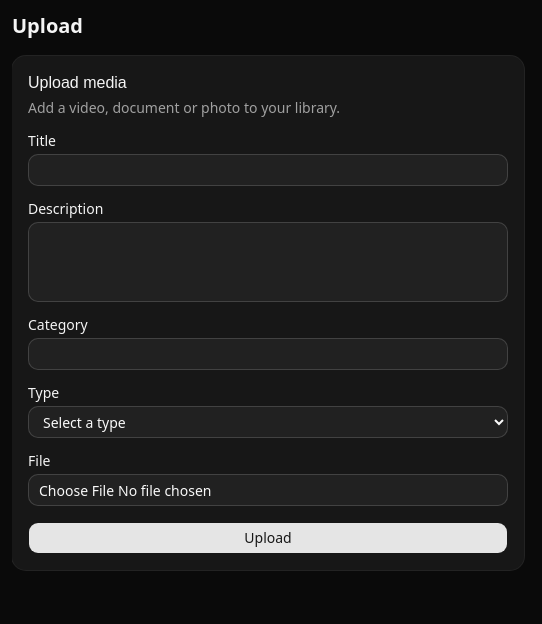
Test: UploadPage › shows a validation error and does not upload when title is empty
The image size is (542, 624).
Click the button "Upload" at (268, 538), box [28, 522, 508, 554]
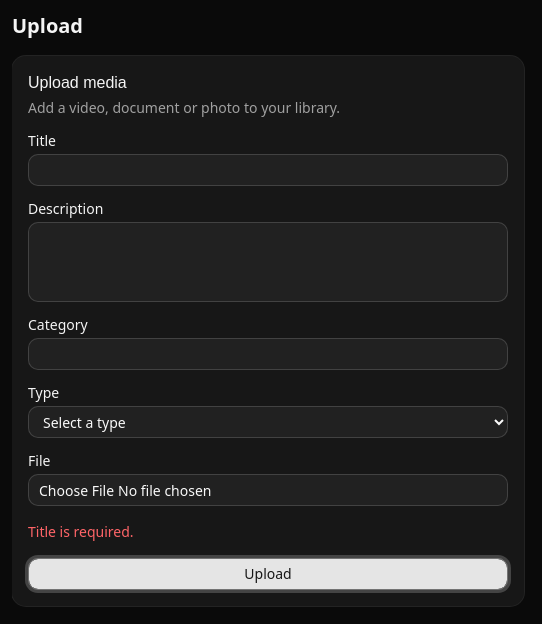
Now the text "Title is required." is shown, box [28, 522, 134, 541]
